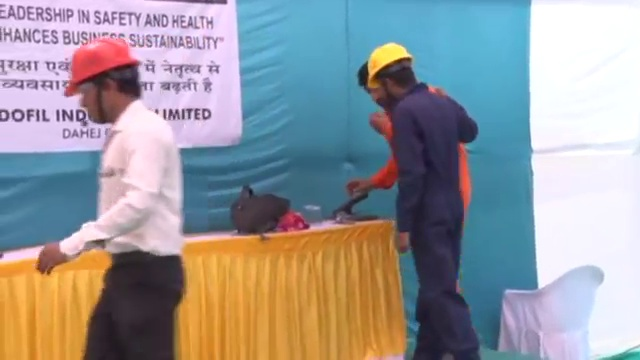helmet: (64, 38, 139, 96), (364, 42, 414, 88)
helmet_on: (64, 36, 147, 127), (364, 41, 431, 99)
person: (38, 34, 186, 360), (367, 37, 481, 360)
